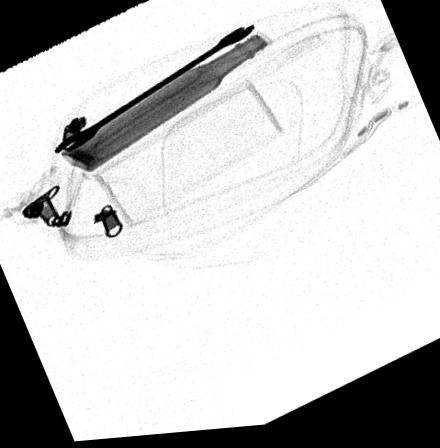Wrench: (50, 26, 255, 156)
